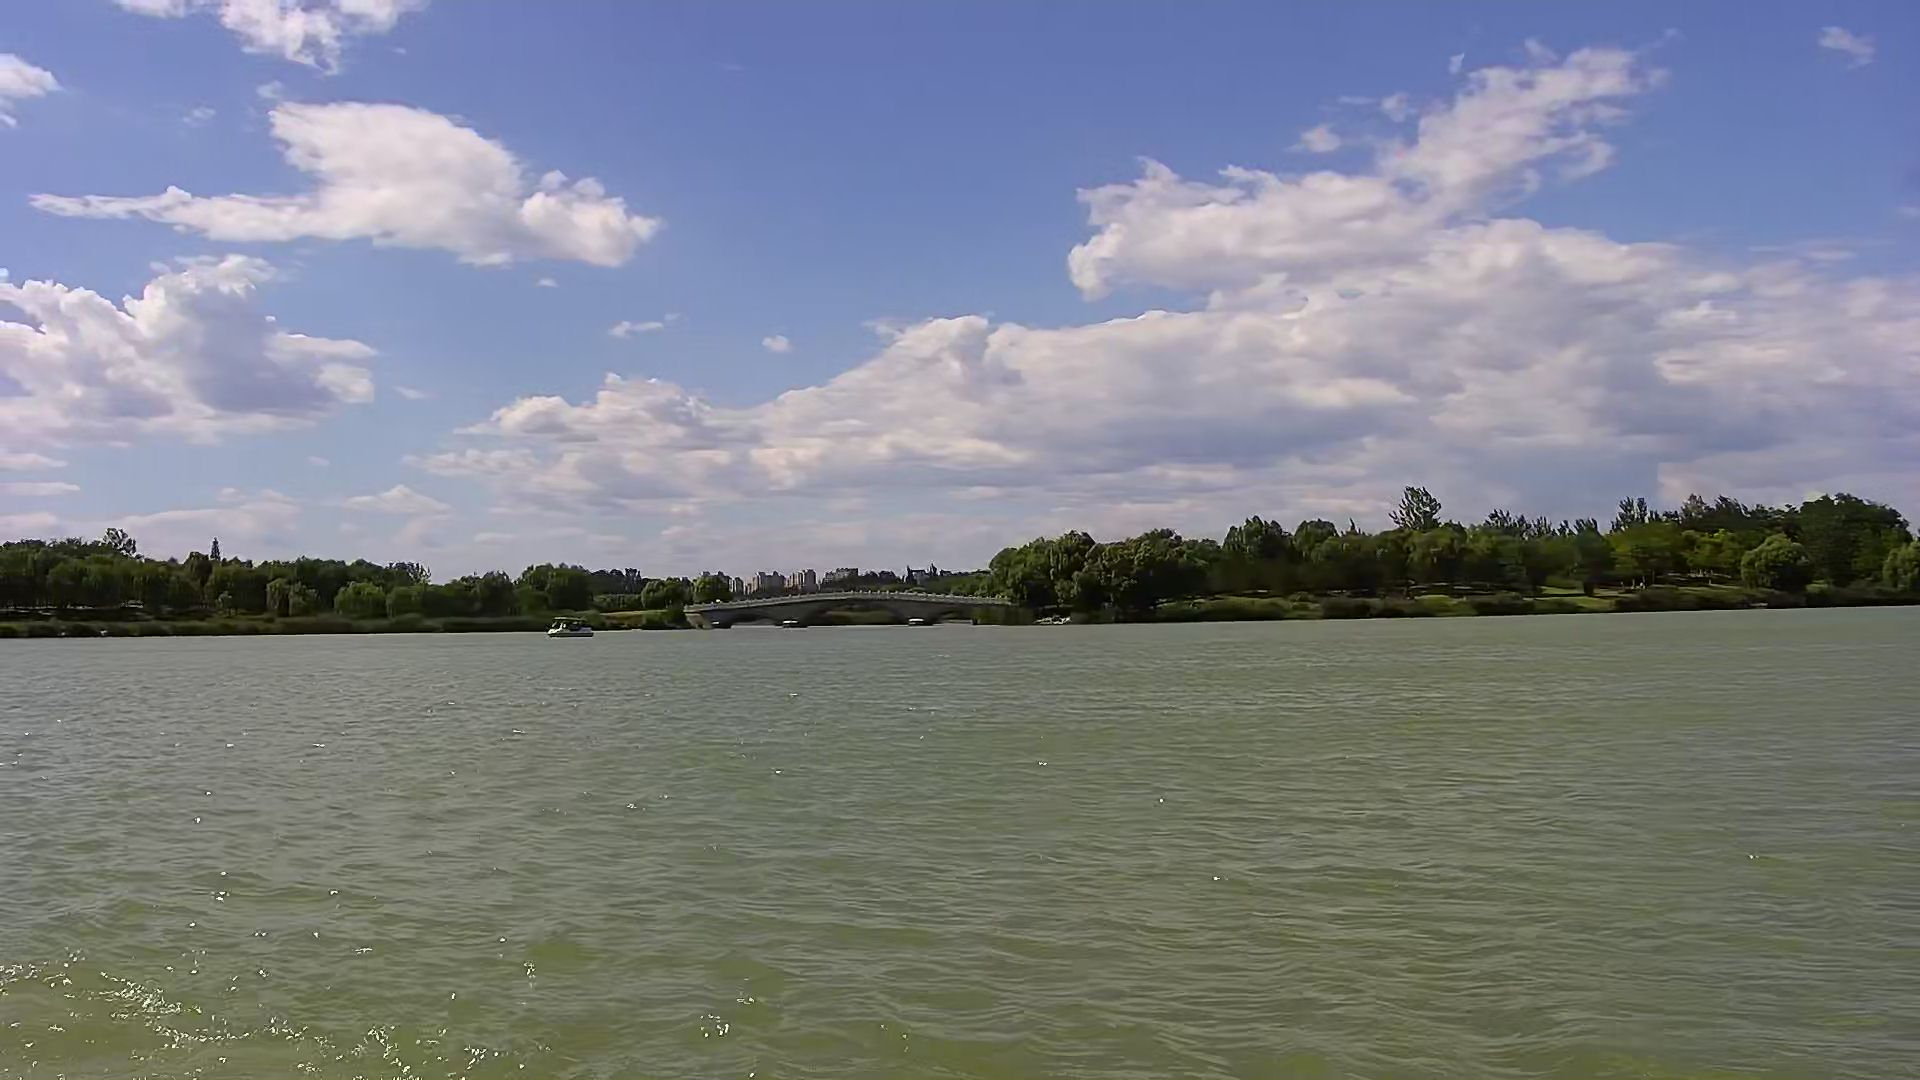boat: (543, 613, 595, 641)
bridge: (683, 593, 1015, 626)
